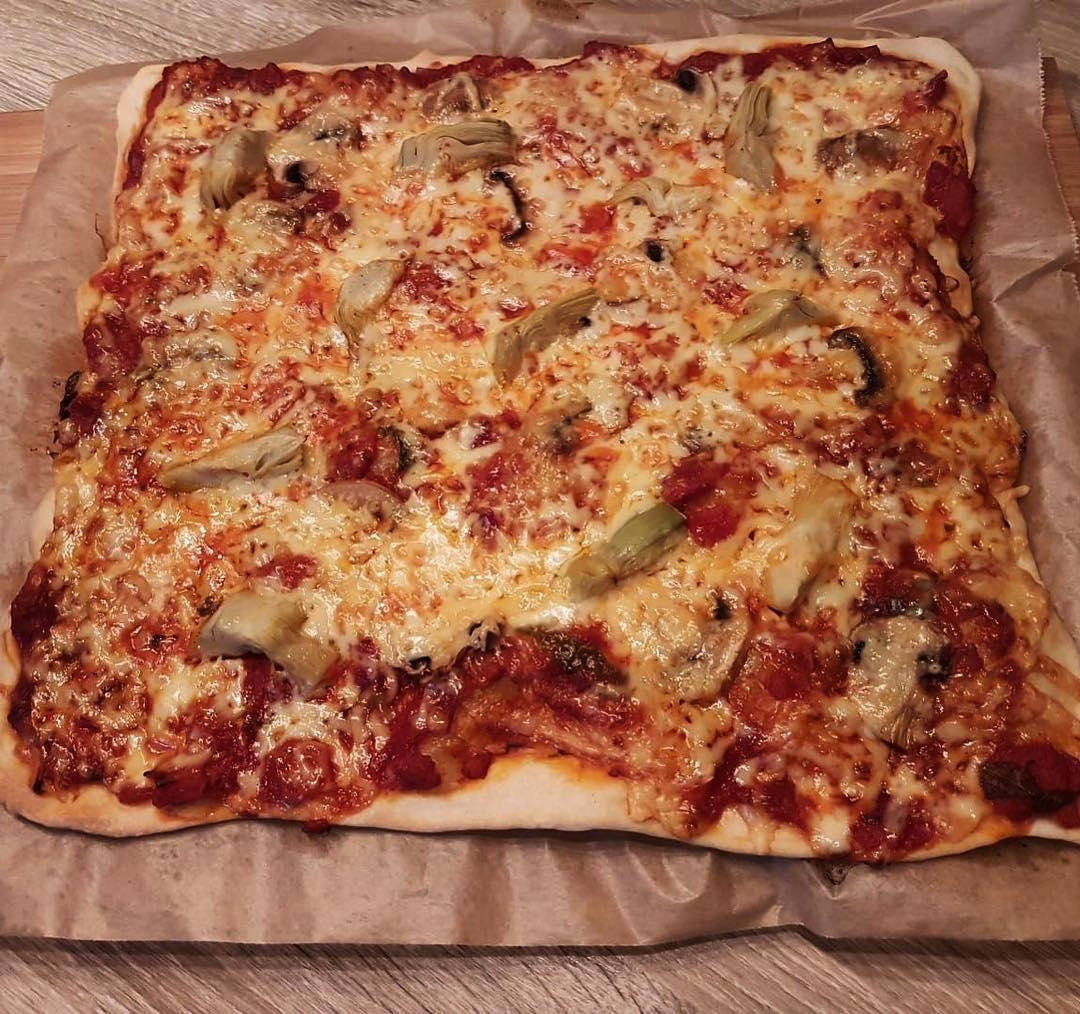Mushroom: (838, 607, 962, 759), (669, 570, 762, 703), (389, 595, 524, 672), (822, 308, 914, 418), (478, 156, 566, 256)
Pizza: (8, 46, 1080, 839)
